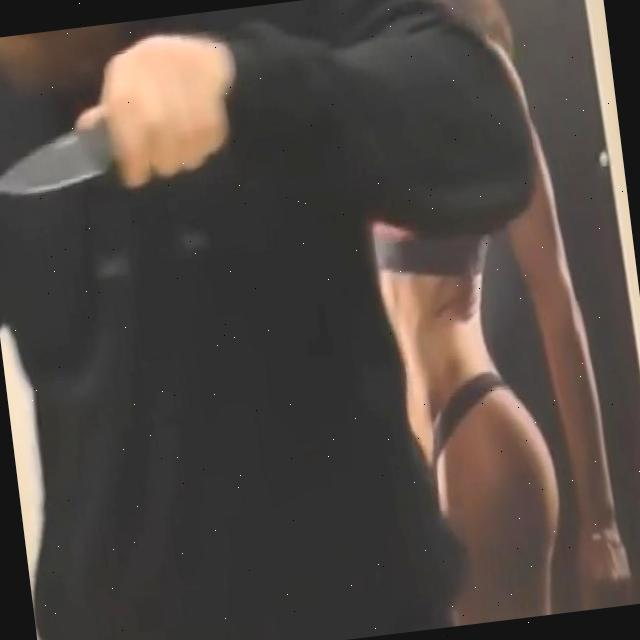suspicion: (0, 0, 548, 300), (0, 120, 113, 203)
